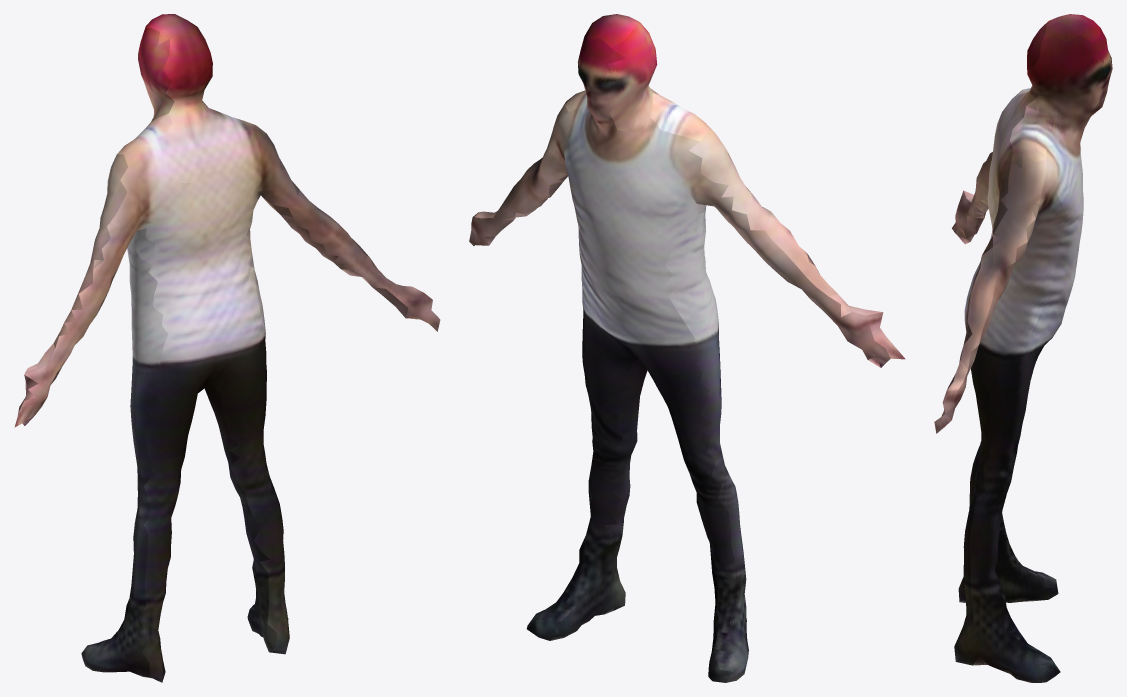
3 views of the same model, side by side, from view 1: azimuth 30°, elevation 25°; view 2: azimuth 150°, elevation 25°; view 3: azimuth 270°, elevation 25° (orthographic). The views are drawn at different scales.
Visible parts, largest first — view 1: world; view 2: world; view 3: world.
Boxes of the visible parts, x1=… form: world: x1=14, y1=14, x2=440, y2=682; world: x1=469, y1=14, x2=905, y2=682; world: x1=934, y1=14, x2=1112, y2=682.
Bounding box in the file's own units: 0.713 × 1.01 × 0.2604.
1 material, 1 textured.
